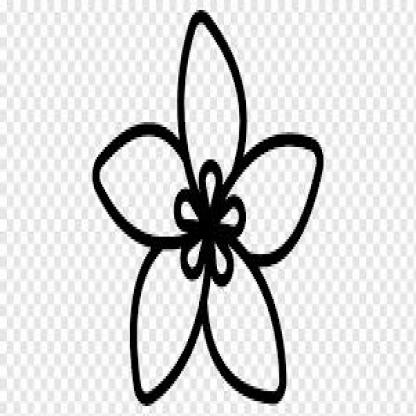Kenanga: (304, 60, 380, 116)
